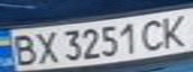1: (115, 20, 142, 54)
2: (78, 25, 103, 61)
3: (60, 26, 84, 62)
5: (100, 22, 124, 58)
B: (6, 32, 39, 68)
C: (136, 16, 172, 52)
K: (157, 10, 193, 48)
X: (30, 29, 60, 65)
